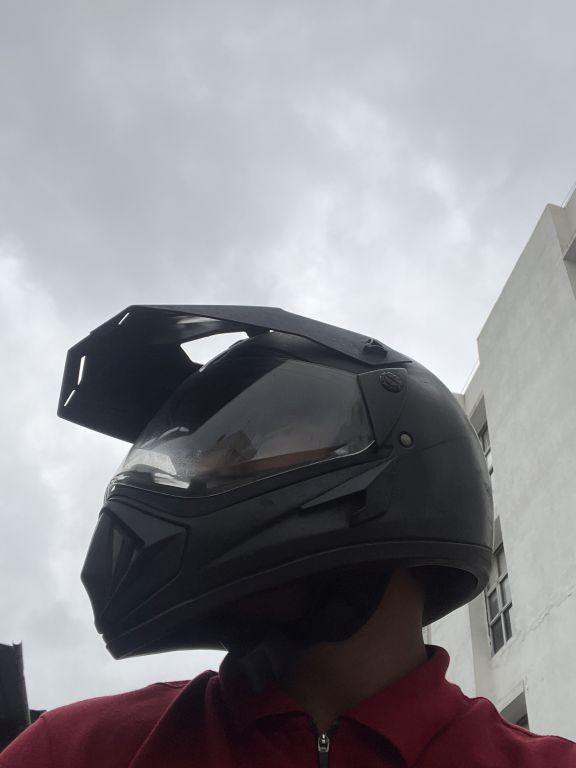helmet: (35, 284, 513, 670)
